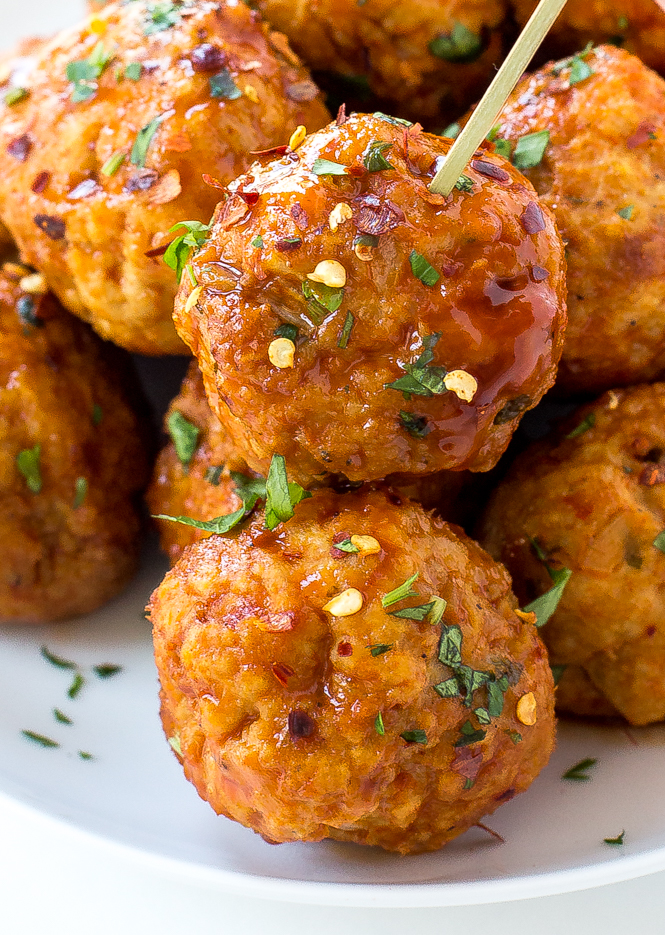meatballs: (55, 39, 525, 815)
